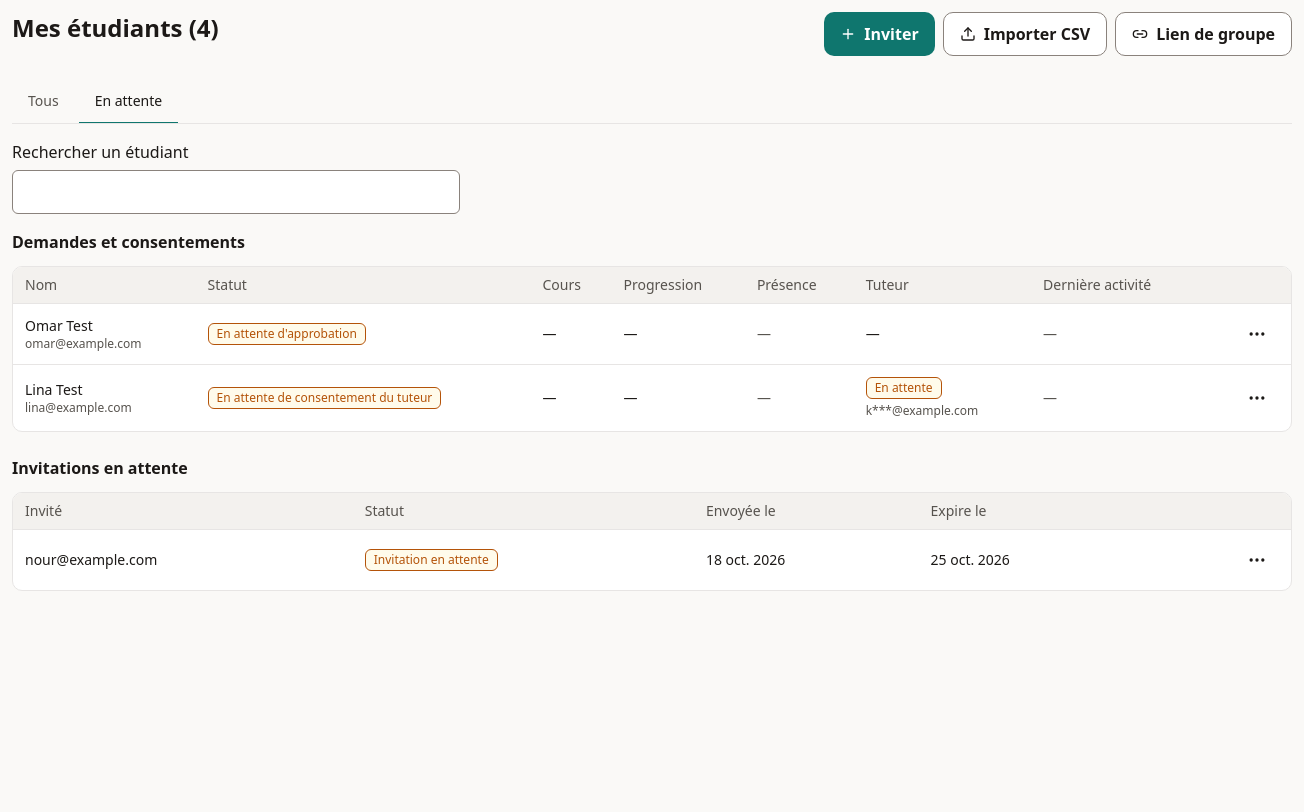
StudentsPanel › names each row menu after the student; Approuver / Refuser only on PENDING_APPROVAL
What coordinates should you click on to do the following:
click the button named "Actions pour Omar Test"
I would click on:
 (1257, 334)
Its box is x1=1235 y1=312 x2=1279 y2=356.
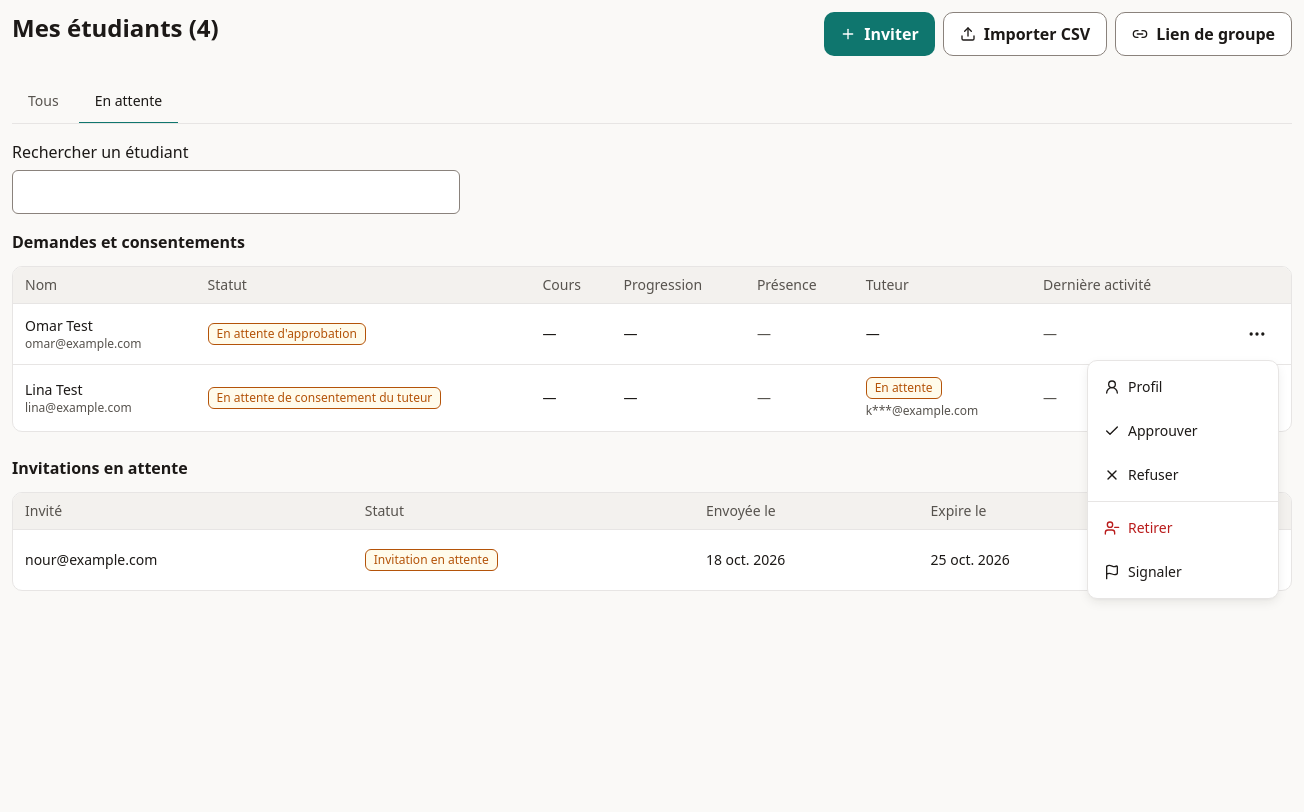
Check: the menu item "Refuser" is shown, box x1=1104 y1=465 x2=1178 y2=484
What coordinates should you click on to do the following:
click the menu item "Approuver"
I would click on:
 (1151, 430)
Its box is x1=1104 y1=421 x2=1198 y2=440.
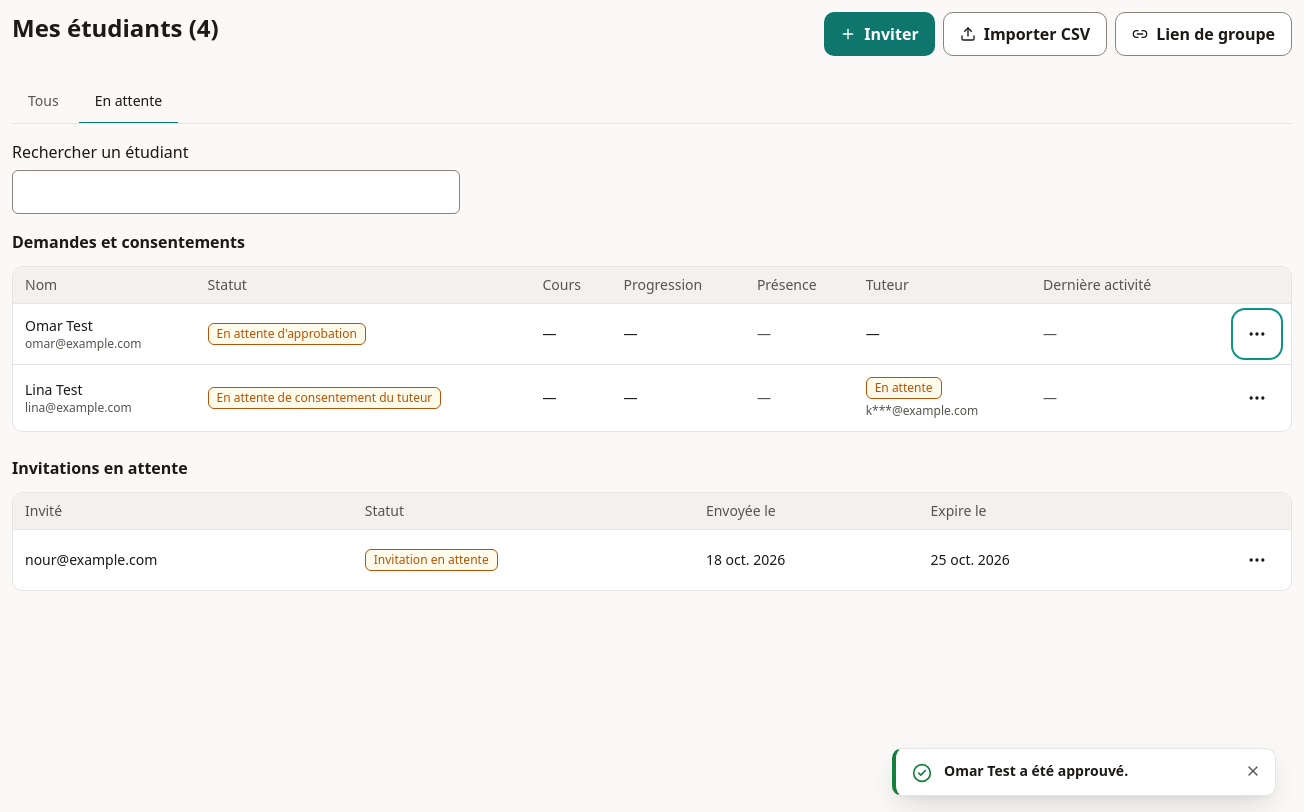
What coordinates should you click on to do the following:
click the button named "Actions pour Lina Test"
I would click on:
 (1257, 398)
Its box is x1=1235 y1=376 x2=1279 y2=420.
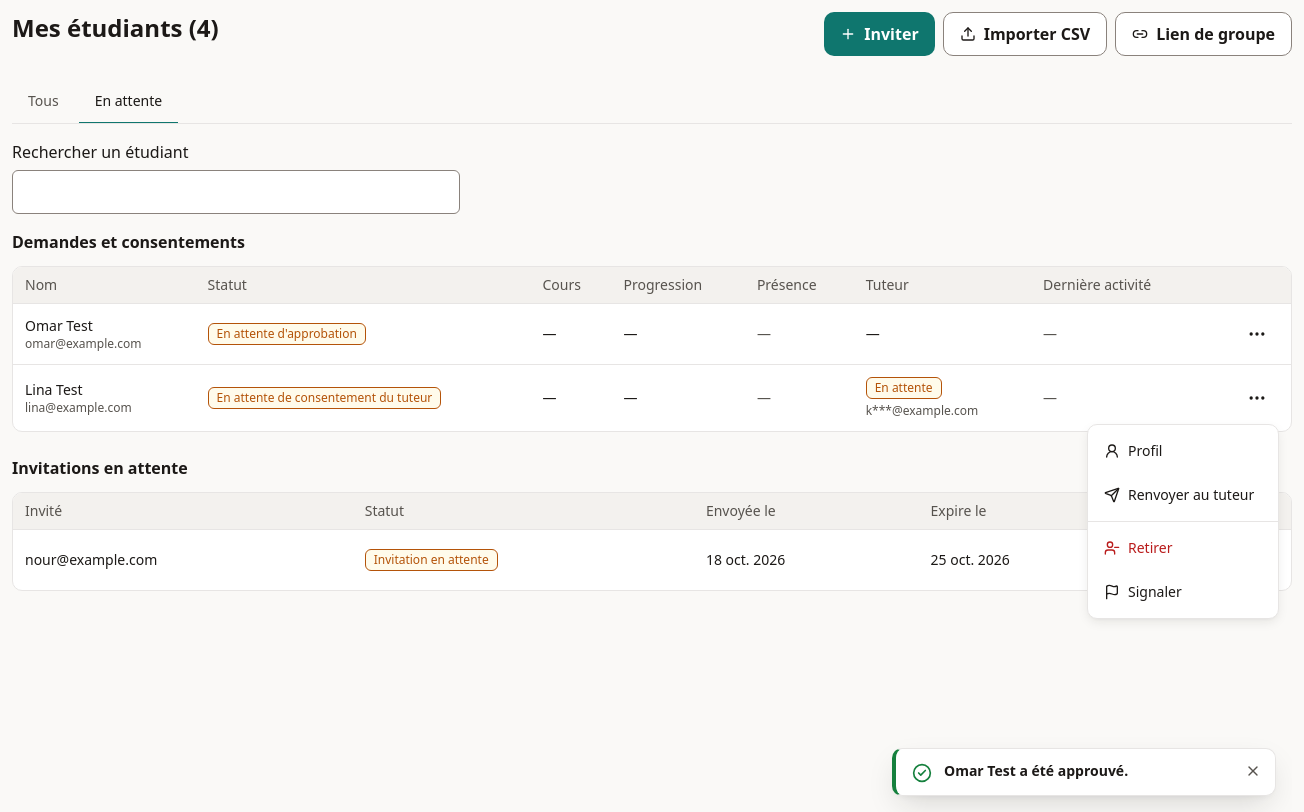
Check: the menu item "Approuver" is not shown
Check: the menu item "Renvoyer au tuteur" is shown, box x1=1104 y1=485 x2=1254 y2=504
